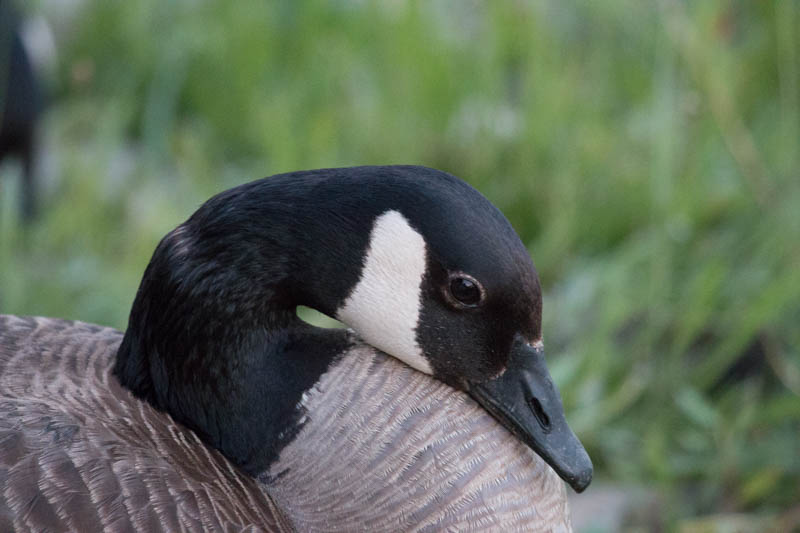goose-head: (287, 165, 594, 494)
